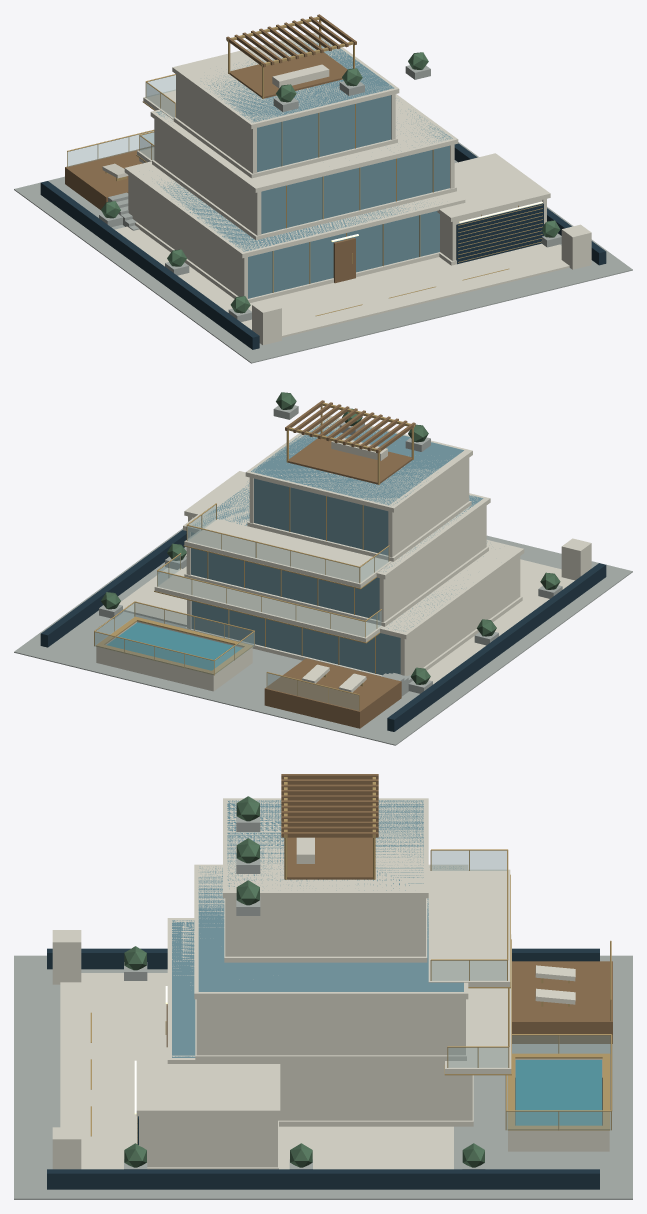
File: lantern-courtyard.glb
3 renders of one model, top to bottom at view 1: azimuth 30°, elevation 25°; view 2: azimuth 150°, elevation 25°; view 3: azimuth 270°, elevation 25°, orthographic. The views are drawn at different scales.
Visible parts, largest first — view 1: RV-03-ivory, RV-03-glazing, RV-03-stone, RV-03-dark, RV-03-wood, RV-03-gold, RV-03-glass, RV-03-leaf; view 2: RV-03-ivory, RV-03-glazing, RV-03-stone, RV-03-glass, RV-03-wood, RV-03-dark, RV-03-gold, RV-03-water, RV-03-leaf; view 3: RV-03-ivory, RV-03-stone, RV-03-glazing, RV-03-wood, RV-03-dark, RV-03-glass, RV-03-water, RV-03-gold, RV-03-leaf.
Part boxes in pixels (<box>): RV-03-ivory: <box>102,32,591,345</box>; RV-03-glazing: <box>156,36,452,298</box>; RV-03-stone: <box>14,65,632,363</box>; RV-03-dark: <box>40,143,606,349</box>; RV-03-wood: <box>65,14,356,283</box>; RV-03-gold: <box>67,16,542,316</box>; RV-03-glass: <box>67,75,175,166</box>; RV-03-leaf: <box>101,52,560,313</box>; RV-03-ivory: <box>96,416,591,692</box>; RV-03-glazing: <box>191,418,487,675</box>; RV-03-stone: <box>14,405,632,745</box>; RV-03-glass: <box>94,505,388,710</box>; RV-03-wood: <box>264,400,415,728</box>; RV-03-dark: <box>40,530,606,731</box>; RV-03-gold: <box>94,402,414,710</box>; RV-03-water: <box>107,622,242,670</box>; RV-03-leaf: <box>101,392,560,684</box>; RV-03-ivory: <box>52,798,609,1169</box>; RV-03-stone: <box>14,813,632,1199</box>; RV-03-glazing: <box>172,800,463,1057</box>; RV-03-wood: <box>166,774,612,1047</box>; RV-03-dark: <box>47,948,602,1189</box>; RV-03-glass: <box>431,851,611,1129</box>; RV-03-water: <box>515,1060,601,1125</box>; RV-03-gold: <box>90,777,612,1143</box>; RV-03-leaf: <box>124,796,484,1167</box>.
Bounding box in the file's own units: 26 × 12.77 × 28.
